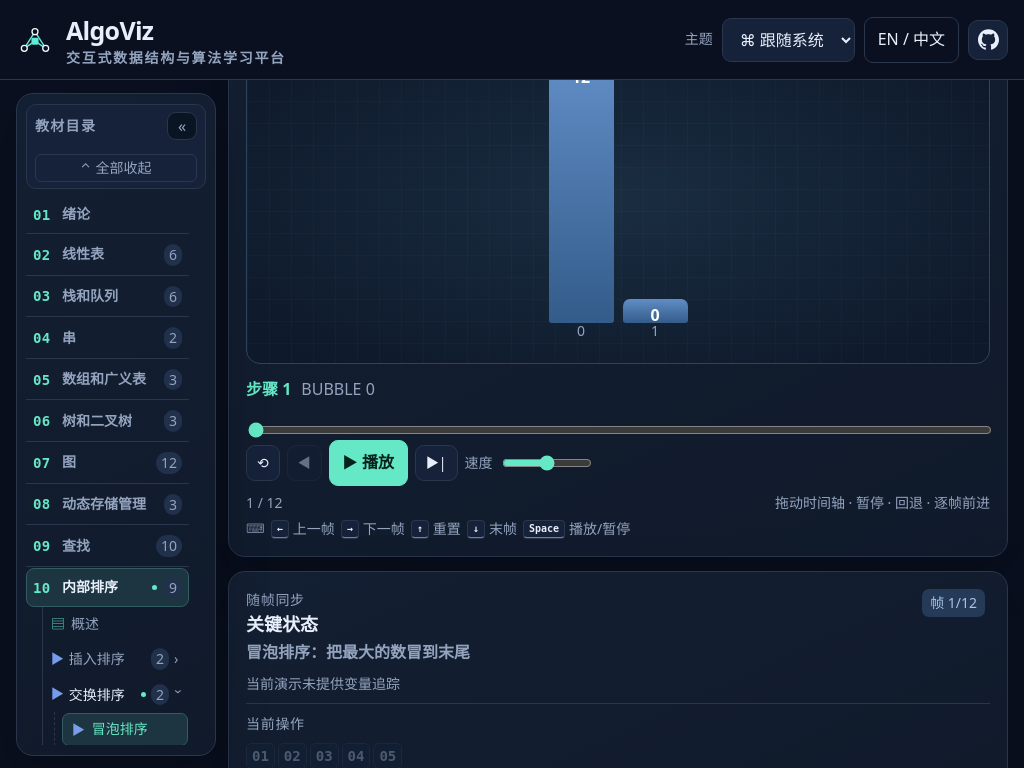
Test case: Stage 3 playback fix — a new trace restarts the timeline › scenario A: scrubbing a long trace then switching to a shorter one lands on frame 0
This screenshot has width=1024, height=768.
Later steps or results of the test are not shown.
(page scrolled)
Expected: the text with test id "progress" reads "1 / 12", top-left (246, 493), bottom-right (282, 512)
Set the slider with test id "scrub" to "10": (918, 430) top-left (248, 422), bottom-right (992, 438)
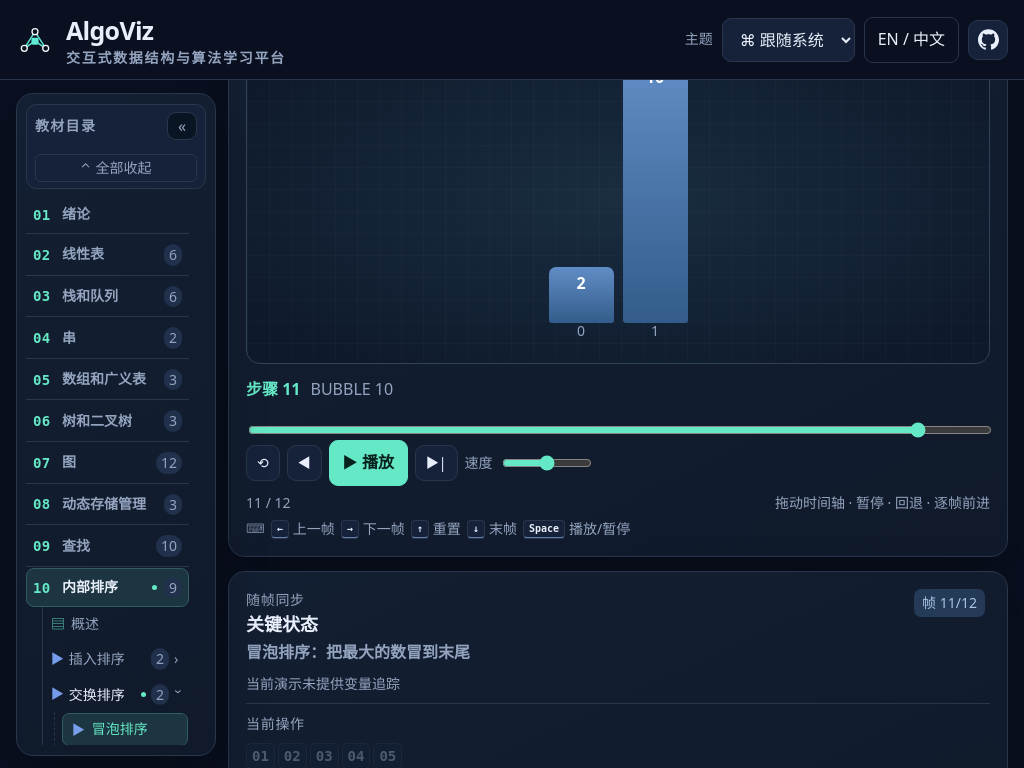
Expected: the text with test id "progress" reads "11 / 12", top-left (246, 493), bottom-right (290, 512)
Expected: the text with test id "step-desc" reads "BUBBLE 10", top-left (310, 378), bottom-right (393, 400)
